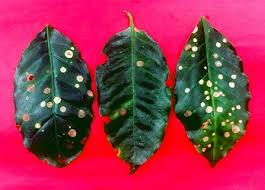ojo de gallo: (36, 37, 97, 156), (185, 32, 243, 154)
